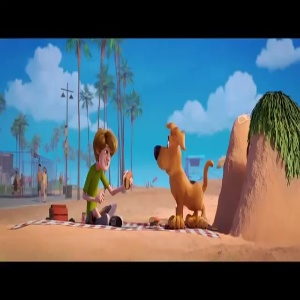Scooby: (150, 118, 188, 173)
Shagy: (89, 126, 121, 174)
